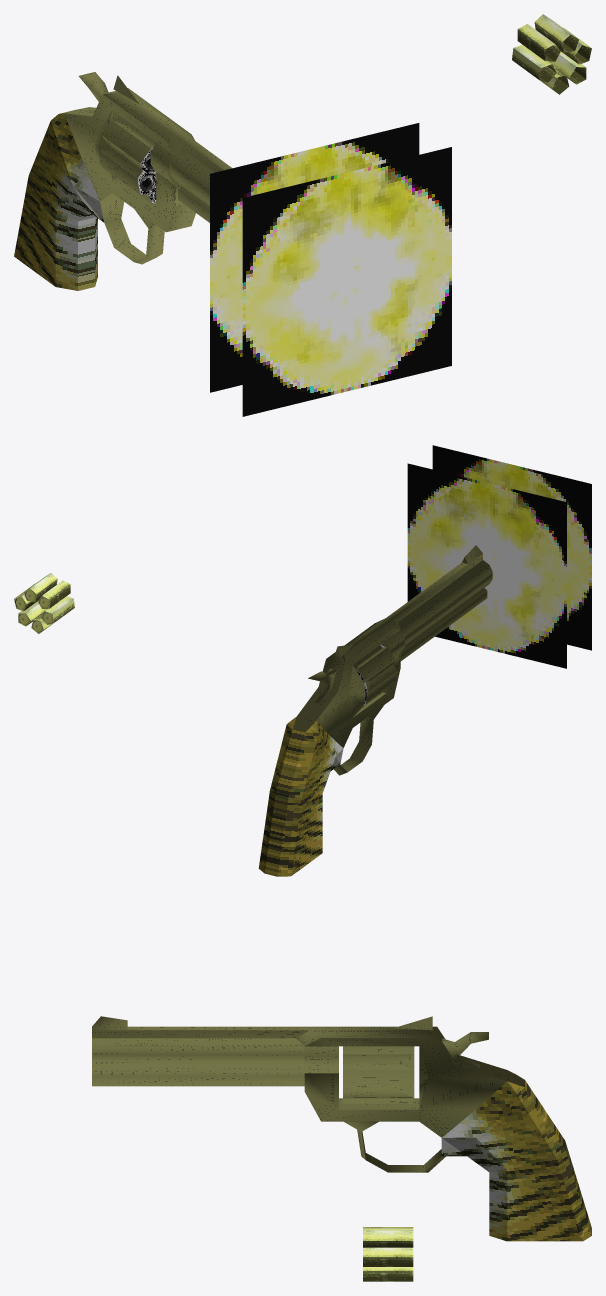
Rendered from Gun0009.obj.
3 renders of one model, top to bottom at view 1: azimuth 30°, elevation 25°; view 2: azimuth 150°, elevation 25°; view 3: azimuth 270°, elevation 25°, orthographic. The views are drawn at different scales.
Visible parts, largest first — view 1: Room02_primary, Room03_primary, Room06_primary, Room36_primary, Room38_primary, Room40_primary, Room05_primary, Room3C_primary; view 2: Room02_primary, Room03_primary, Room06_primary; view 3: Room03_primary, Room06_primary, Room3E_primary, Room40_primary, Room3C_primary.
Part boxes in pixels (bbox=[...]): Room02_primary: bbox=[210, 123, 451, 416]; Room03_primary: bbox=[14, 72, 231, 290]; Room06_primary: bbox=[98, 116, 155, 202]; Room36_primary: bbox=[517, 24, 560, 61]; Room38_primary: bbox=[512, 44, 556, 82]; Room40_primary: bbox=[534, 14, 578, 52]; Room05_primary: bbox=[137, 148, 156, 203]; Room3C_primary: bbox=[549, 51, 586, 84]; Room02_primary: bbox=[407, 445, 591, 668]; Room03_primary: bbox=[258, 545, 492, 876]; Room06_primary: bbox=[353, 646, 397, 707]; Room03_primary: bbox=[92, 1016, 591, 1241]; Room06_primary: bbox=[343, 1046, 414, 1103]; Room3E_primary: bbox=[363, 1247, 413, 1266]; Room40_primary: bbox=[363, 1230, 413, 1247]; Room3C_primary: bbox=[363, 1267, 413, 1281].
Bounding box in the file's own units: 382 × 208 × 388.
Materials: 144 (144 with a texture image).
